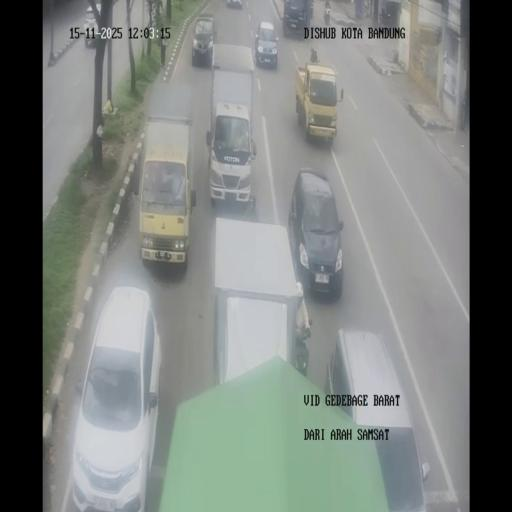car: (69, 286, 161, 508), (326, 332, 426, 509), (290, 170, 346, 300), (191, 13, 217, 67), (254, 20, 279, 68), (84, 4, 102, 48)
motorcycle: (323, 0, 331, 24), (379, 6, 387, 24)
truck: (210, 219, 306, 384), (138, 82, 195, 268), (206, 43, 258, 212), (294, 54, 340, 146), (282, 0, 314, 38)
